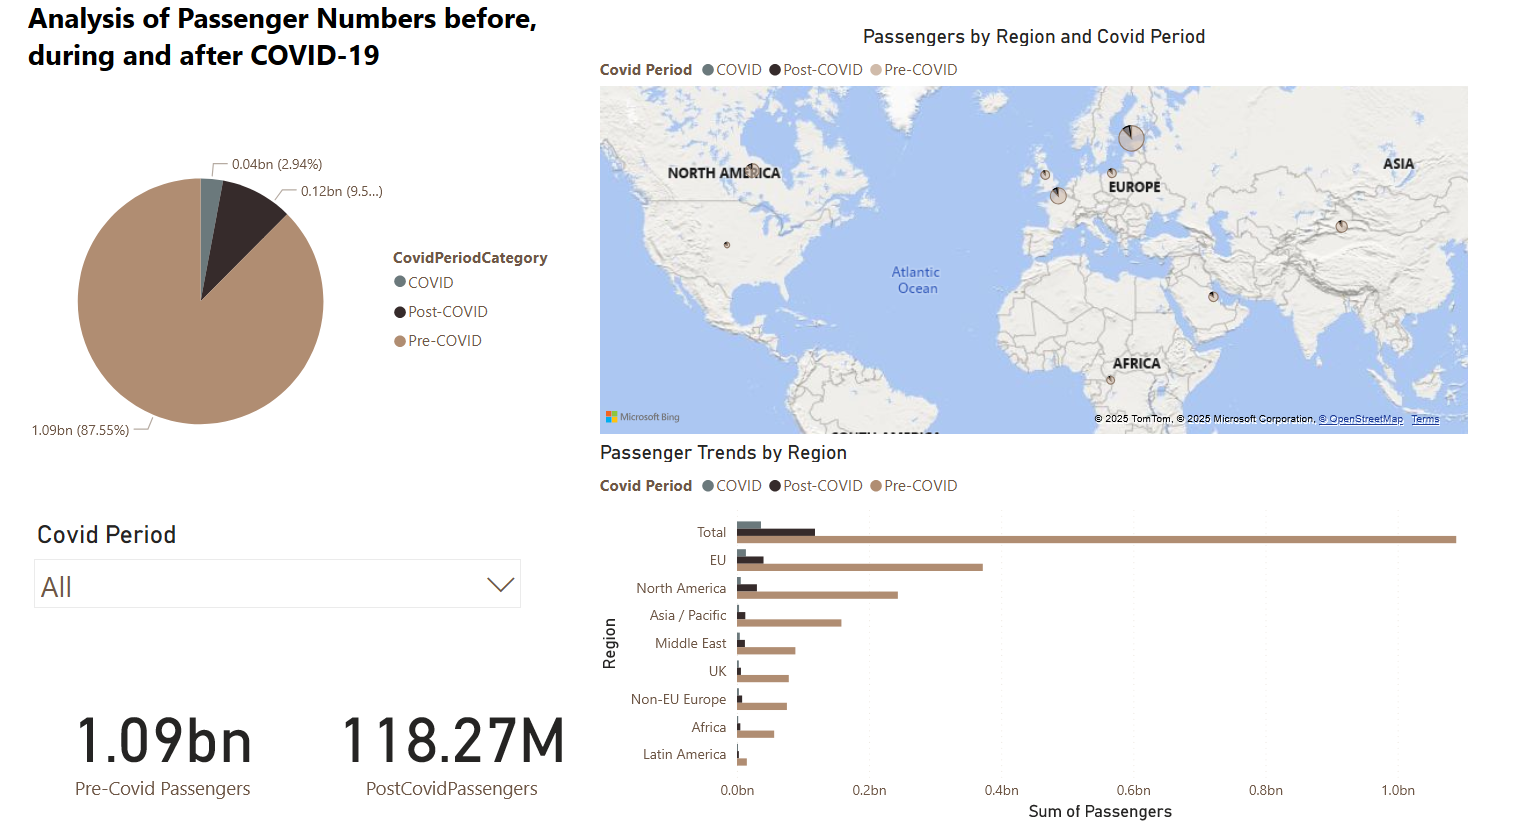

Layout of this report page (visuals, bound fields, positions):
{"tool":"powerbi","page":{"name":"Dashboard","canvas":[1280,720],"ordinal":1},"visuals":[{"type":"card","title":"Pre-Covid Passenger Voluma","fields":{"Values":["Heathrow Traffic Statistics (Heathrow Traffic Statistics).Pre-Covid Passengers"]},"box":[9.1,575.8,257.5,144.2],"z":0},{"type":"pieChart","title":"Passenger Distribution by Covid Period","fields":{"Y":["Heathrow Traffic Statistics.CovidPeriodPassengers","Heathrow Traffic Statistics.PostCovidPassengers","Heathrow Traffic Statistics.Pre-Covid Passengers"],"Category":["Heathrow Traffic Statistics.CovidPeriodCategory"]},"box":[0,77.3,490.2,358.9],"z":1000},{"type":"map","title":"Passengers by Region and Covid Period","fields":{"Category":["Passengers by Market (Passengers by Market).Region"],"Size":["Sum(Passengers by Market (Passengers by Market).Passengers)"],"Series":["Passengers by Market (Passengers by Market).Covid Period"]},"box":[510.3,27.5,759.1,358.9],"z":3000},{"type":"clusteredBarChart","title":"Passenger Trends by Region","fields":{"Category":["Passengers by Market (Passengers by Market).Region"],"Series":["Passengers by Market (Passengers by Market).Covid Period"],"Y":["Sum(Passengers by Market (Passengers by Market).Passengers)"]},"box":[510.3,386.4,769.7,333.5],"z":3001},{"type":"card","fields":{"Values":["Heathrow Traffic Statistics.PostCovidPassengers"]},"box":[264.8,575.8,245.7,144.2],"z":3002},{"type":"slicer","fields":{"Values":["Passengers by Market (Passengers by Market).Covid Period"]},"box":[17.2,448,440.7,121.5],"z":3003},{"type":"textbox","box":[16.9,0,460.5,108],"z":3004}]}

Visuals, with their boxes on the page's 1280x720 design canvas (x1, y1, x2, y2). These are canvas units, not pixel positions in the 1521x822 screenshot, which may show the page scaled, cropped or inside an application window:
"Pre-Covid Passenger Voluma" card: bbox=[9, 576, 267, 720]
"Passenger Distribution by Covid Period" pieChart: bbox=[0, 77, 490, 436]
"Passengers by Region and Covid Period" map: bbox=[510, 28, 1269, 386]
"Passenger Trends by Region" clusteredBarChart: bbox=[510, 386, 1280, 720]
card - Heathrow Traffic Statistics.PostCovidPassengers: bbox=[265, 576, 510, 720]
slicer - Passengers by Market (Passengers by Market).Covid Period: bbox=[17, 448, 458, 570]
textbox: bbox=[17, 0, 477, 108]
